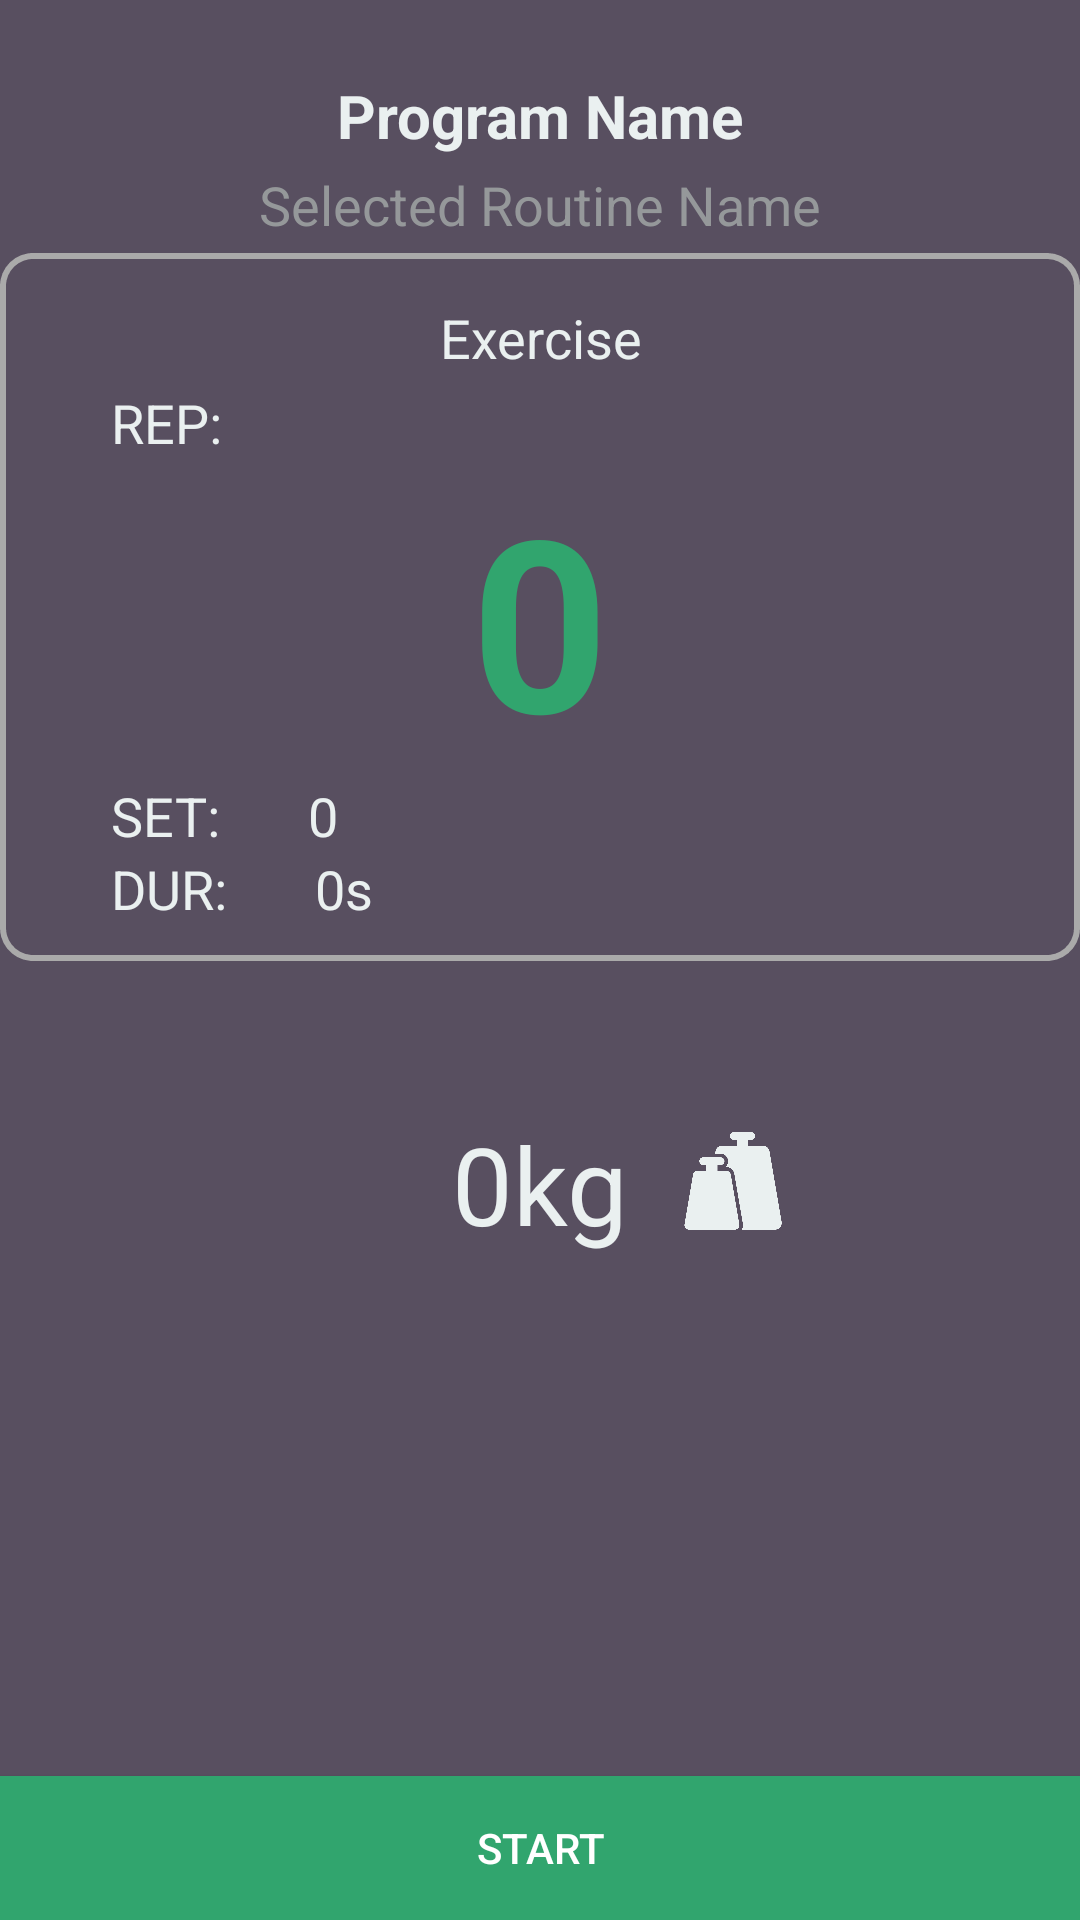

Icon click points for this 1080w x 1920h phone screenshot, format (x=x, y=y):
weight: (x=733, y=1181)
